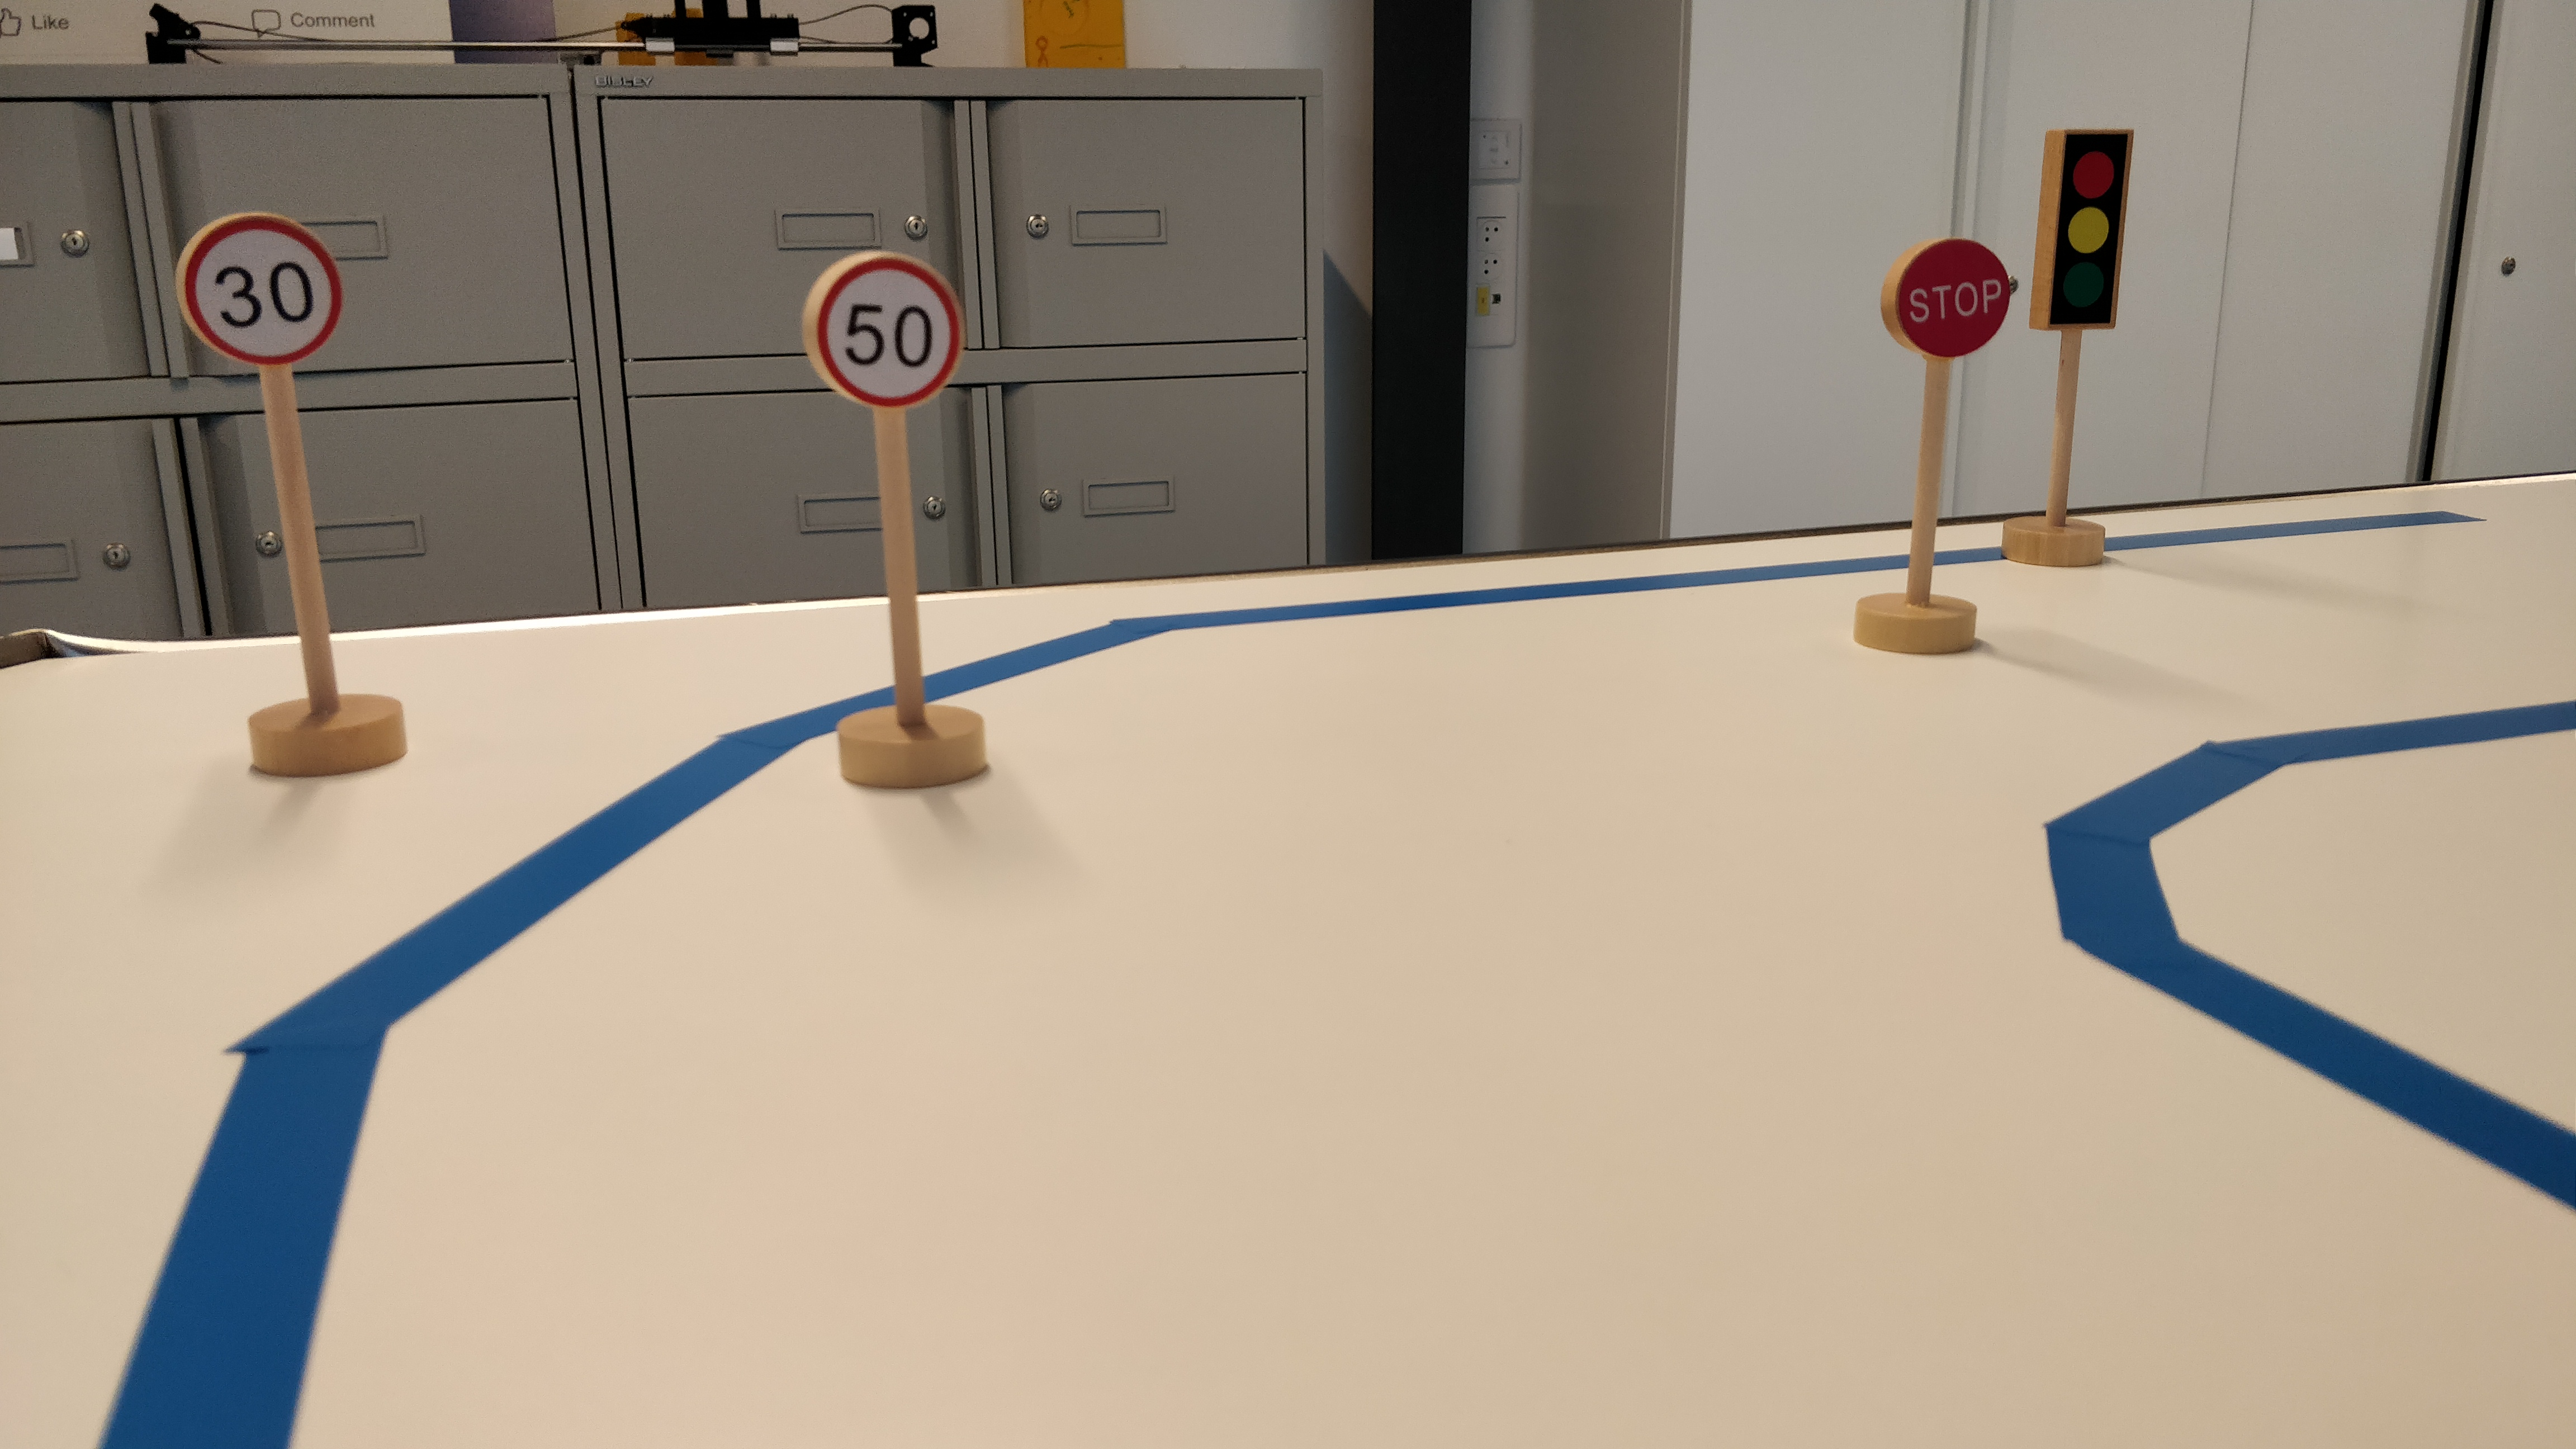Speed Limit 30: (169, 209, 346, 367)
Speed Limit 50: (795, 244, 967, 416)
Stop Sign: (1876, 238, 2015, 362)
Traffic Light: (2025, 126, 2139, 333)
